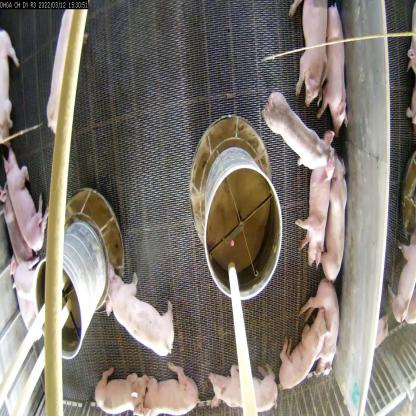Pig: (98, 252, 179, 361), (255, 82, 330, 178), (0, 150, 58, 258), (36, 0, 82, 136), (303, 270, 354, 388), (318, 0, 360, 133), (324, 142, 358, 286), (213, 355, 274, 415), (287, 0, 324, 98), (132, 359, 195, 415), (273, 314, 320, 388), (0, 20, 27, 144), (306, 150, 326, 272), (96, 371, 147, 402)
